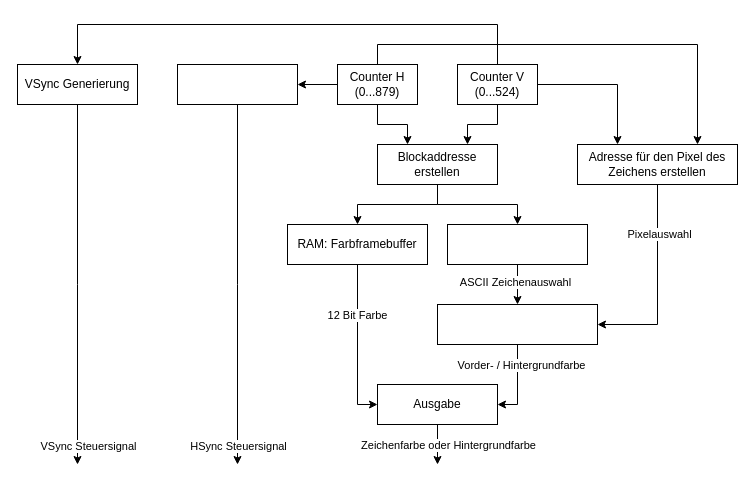
The diagram is 755 pixels wide and 490 high, and some of its shapes have lost their labels. Here are the shapes that lost their labels. From the top down, the box of each, then its label:
(176, 64, 298, 104): HSync Generierung
(446, 224, 588, 264): RAM: Textframebuffer
(436, 304, 598, 344): ROM: ASCII Pixelmaps
